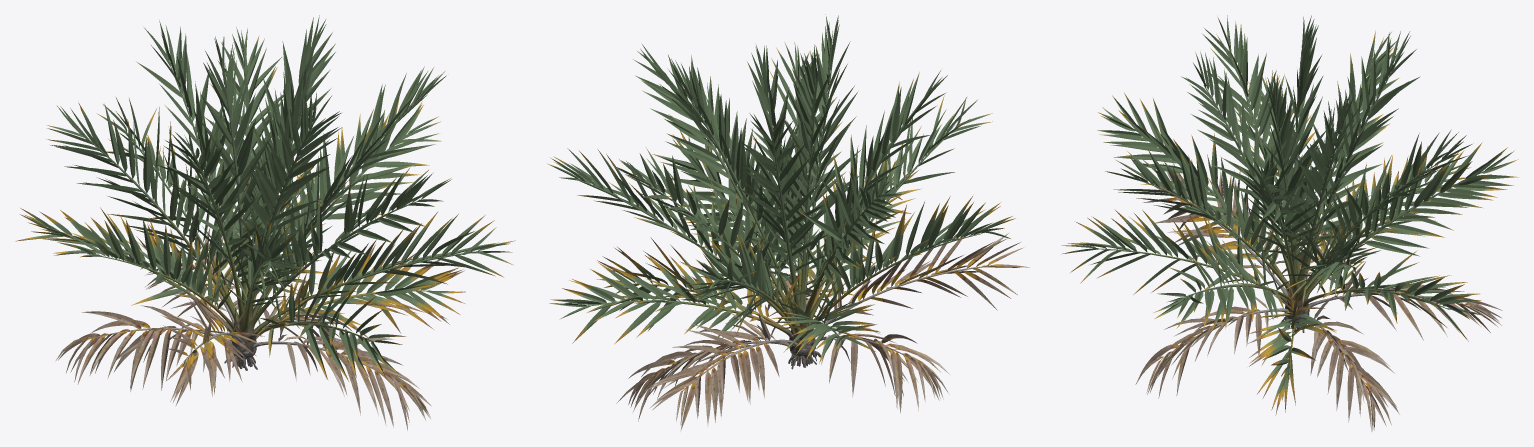
The model's file is palmier-dattier.glb.
3 renders of one model, left to right at view 1: azimuth 30°, elevation 25°; view 2: azimuth 150°, elevation 25°; view 3: azimuth 270°, elevation 25°, orthographic. The views are drawn at different scales.
Visible parts, largest first — view 1: Phoenix_dactylifera_HD_Phoenix dact lft 01c_0, Phoenix_dactylifera_HD_Phoenix dact lft 01a_0, Phoenix_dactylifera_HD_Phoenix dact lft 01b_0, Phoenix_dactylifera_HD_Phoenix dac stk 1a_0, Phoenix_dactylifera_HD_Phoenix dac stk 1_0, Phoenix_dactylifera_HD_Phoenix dac stk 1b_0, Phoenix_dactylifera_HD_Phoenix dac dead stk 2_0; view 2: Phoenix_dactylifera_HD_Phoenix dact lft 01c_0, Phoenix_dactylifera_HD_Phoenix dact lft 01a_0, Phoenix_dactylifera_HD_Phoenix dact lft 01b_0, Phoenix_dactylifera_HD_Phoenix dac stk 1_0, Phoenix_dactylifera_HD_Phoenix dac stk 1a_0, Phoenix_dactylifera_HD_Phoenix dac stk 1b_0, Phoenix_dactylifera_HD_Phoenix dac dead stk 2_0; view 3: Phoenix_dactylifera_HD_Phoenix dact lft 01a_0, Phoenix_dactylifera_HD_Phoenix dact lft 01b_0, Phoenix_dactylifera_HD_Phoenix dact lft 01c_0, Phoenix_dactylifera_HD_Phoenix dac stk 1a_0, Phoenix_dactylifera_HD_Phoenix dac stk 1_0, Phoenix_dactylifera_HD_Phoenix dac dead stk 2_0, Phoenix_dactylifera_HD_Phoenix dac stk 1b_0.
Part boxes in pixels (x1,y1,x2,y2): Phoenix_dactylifera_HD_Phoenix dact lft 01c_0: (15, 26, 512, 425); Phoenix_dactylifera_HD_Phoenix dact lft 01a_0: (19, 17, 515, 418); Phoenix_dactylifera_HD_Phoenix dact lft 01b_0: (20, 15, 503, 430); Phoenix_dactylifera_HD_Phoenix dac stk 1a_0: (83, 109, 477, 333); Phoenix_dactylifera_HD_Phoenix dac stk 1_0: (171, 68, 418, 323); Phoenix_dactylifera_HD_Phoenix dac stk 1b_0: (51, 209, 373, 342); Phoenix_dactylifera_HD_Phoenix dac dead stk 2_0: (88, 264, 402, 384); Phoenix_dactylifera_HD_Phoenix dact lft 01c_0: (553, 31, 1020, 421); Phoenix_dactylifera_HD_Phoenix dact lft 01a_0: (547, 14, 1029, 431); Phoenix_dactylifera_HD_Phoenix dact lft 01b_0: (549, 22, 1012, 425); Phoenix_dactylifera_HD_Phoenix dac stk 1_0: (667, 66, 832, 320); Phoenix_dactylifera_HD_Phoenix dac stk 1a_0: (611, 81, 955, 335); Phoenix_dactylifera_HD_Phoenix dac stk 1b_0: (592, 233, 981, 340); Phoenix_dactylifera_HD_Phoenix dac dead stk 2_0: (652, 265, 990, 390); Phoenix_dactylifera_HD_Phoenix dact lft 01a_0: (1087, 15, 1518, 431); Phoenix_dactylifera_HD_Phoenix dact lft 01b_0: (1061, 31, 1513, 431); Phoenix_dactylifera_HD_Phoenix dact lft 01c_0: (1062, 15, 1506, 426); Phoenix_dactylifera_HD_Phoenix dac stk 1a_0: (1129, 59, 1484, 304); Phoenix_dactylifera_HD_Phoenix dac stk 1_0: (1203, 49, 1395, 294); Phoenix_dactylifera_HD_Phoenix dac dead stk 2_0: (1161, 206, 1460, 389); Phoenix_dactylifera_HD_Phoenix dac stk 1b_0: (1096, 172, 1449, 309).
Bounding box in the file's own units: 1.67 × 1.41 × 1.67.
10 materials, 10 textured.
